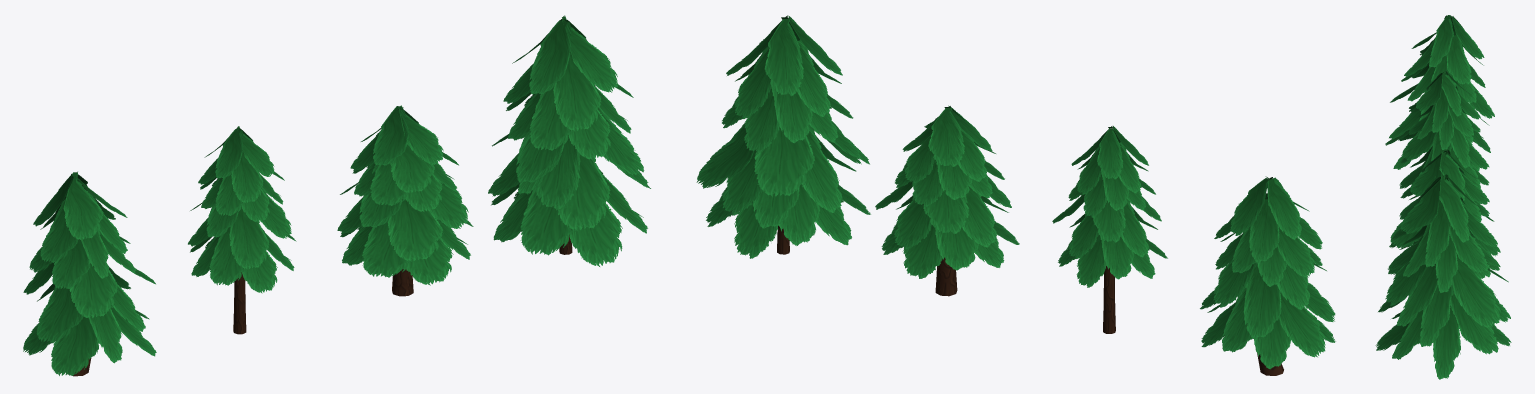
Rendered from TreesDoubleSide.fbx.
3 renders of one model, left to right at view 1: azimuth 30°, elevation 25°; view 2: azimuth 150°, elevation 25°; view 3: azimuth 270°, elevation 25°, orthographic. The views are drawn at different scales.
Parts seen in each view (by area): view 1: Cylinder.002, Cylinder.001, Cylinder.003, Cylinder; view 2: Cylinder.002, Cylinder.003, Cylinder.001, Cylinder; view 3: Cylinder.002, Cylinder, Cylinder.003, Cylinder.001.
Boxes of the visible parts, x1,y1,x2,y2 form: Cylinder.002: (488,15,650,266); Cylinder.001: (337,105,473,296); Cylinder.003: (23,171,156,376); Cylinder: (188,126,296,334); Cylinder.002: (696,15,870,258); Cylinder.003: (1200,176,1335,375); Cylinder.001: (875,105,1019,296); Cylinder: (1052,126,1167,333); Cylinder.002: (1375,174,1511,379); Cylinder: (1399,71,1489,194); Cylinder.003: (1385,15,1494,171); Cylinder.001: (1388,150,1500,278).
Size of the model in its own units: 10.7 by 3.87 by 2.8.
2 materials, 2 textured.
